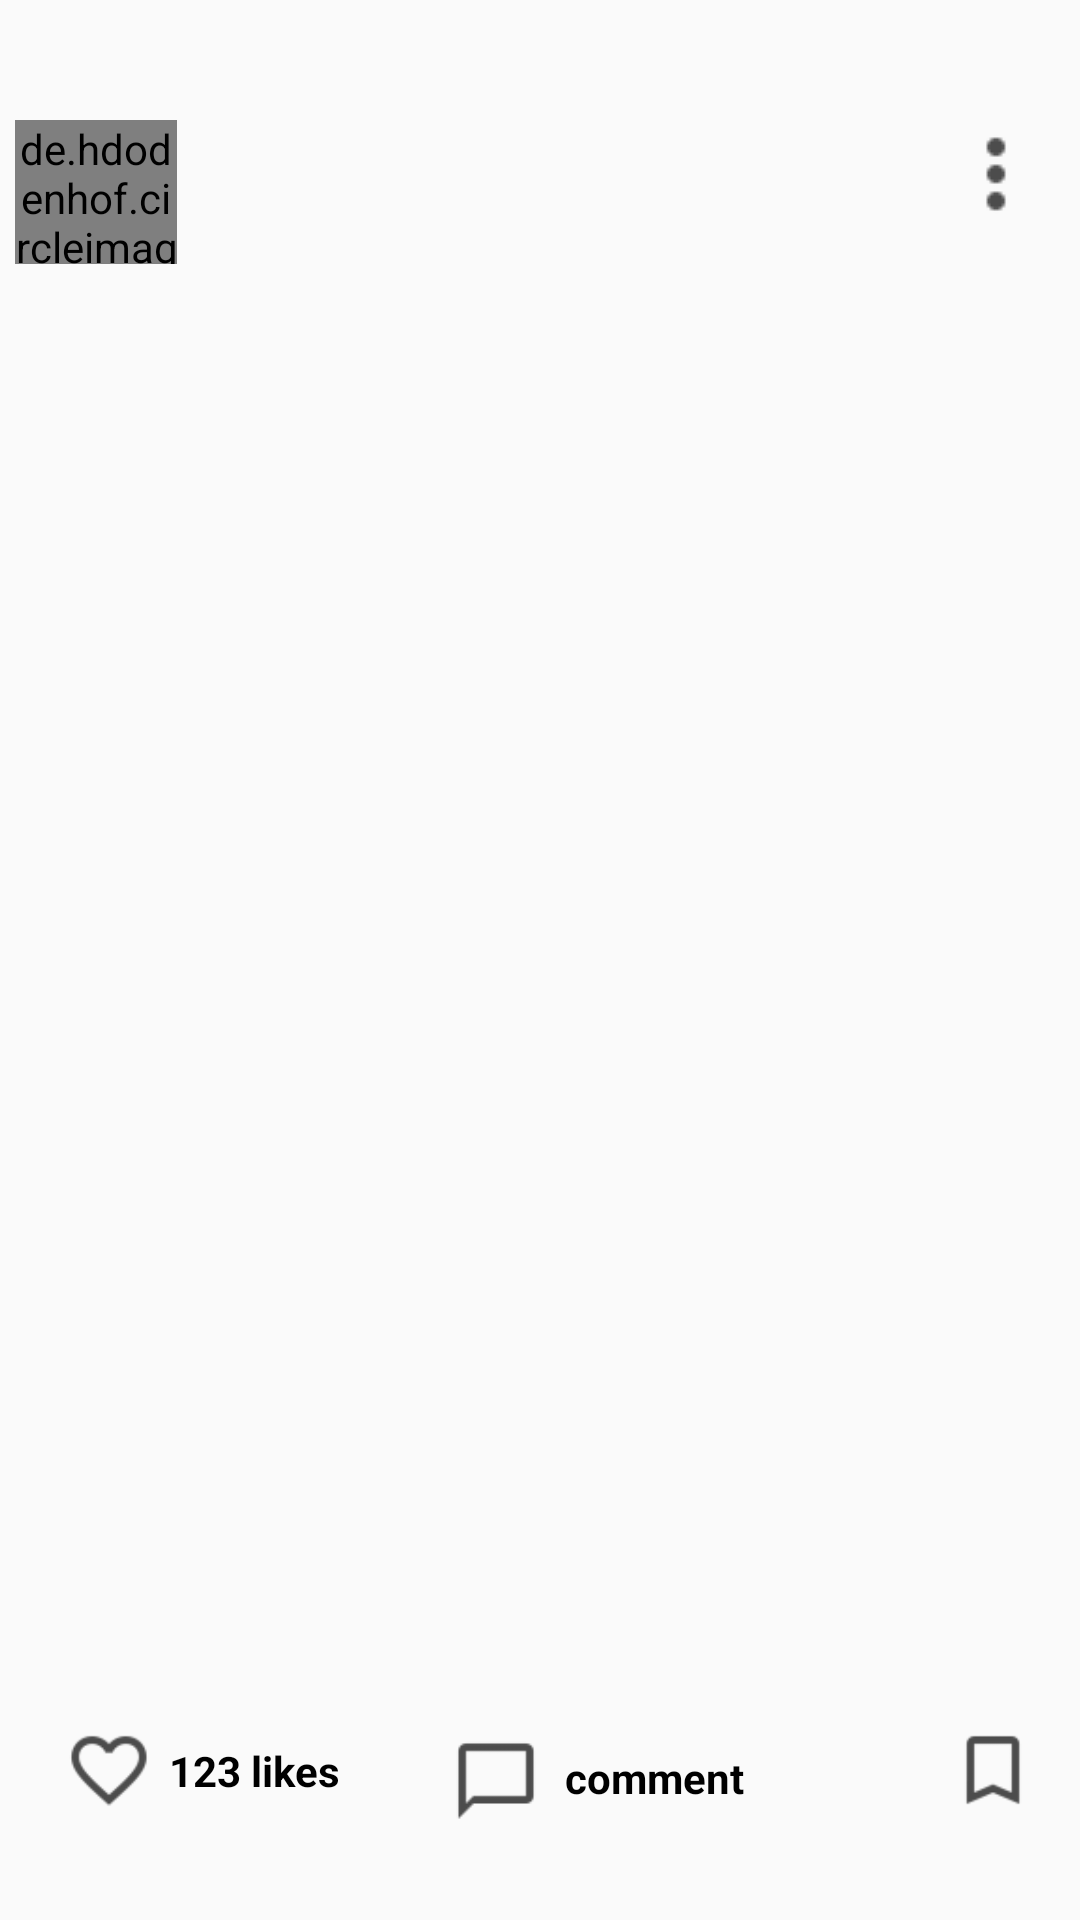

Named icons in this screenshot (1080 x 1920) and their centers, (x=x, y=y):
more: (x=996, y=174)
save: (x=993, y=1770)
